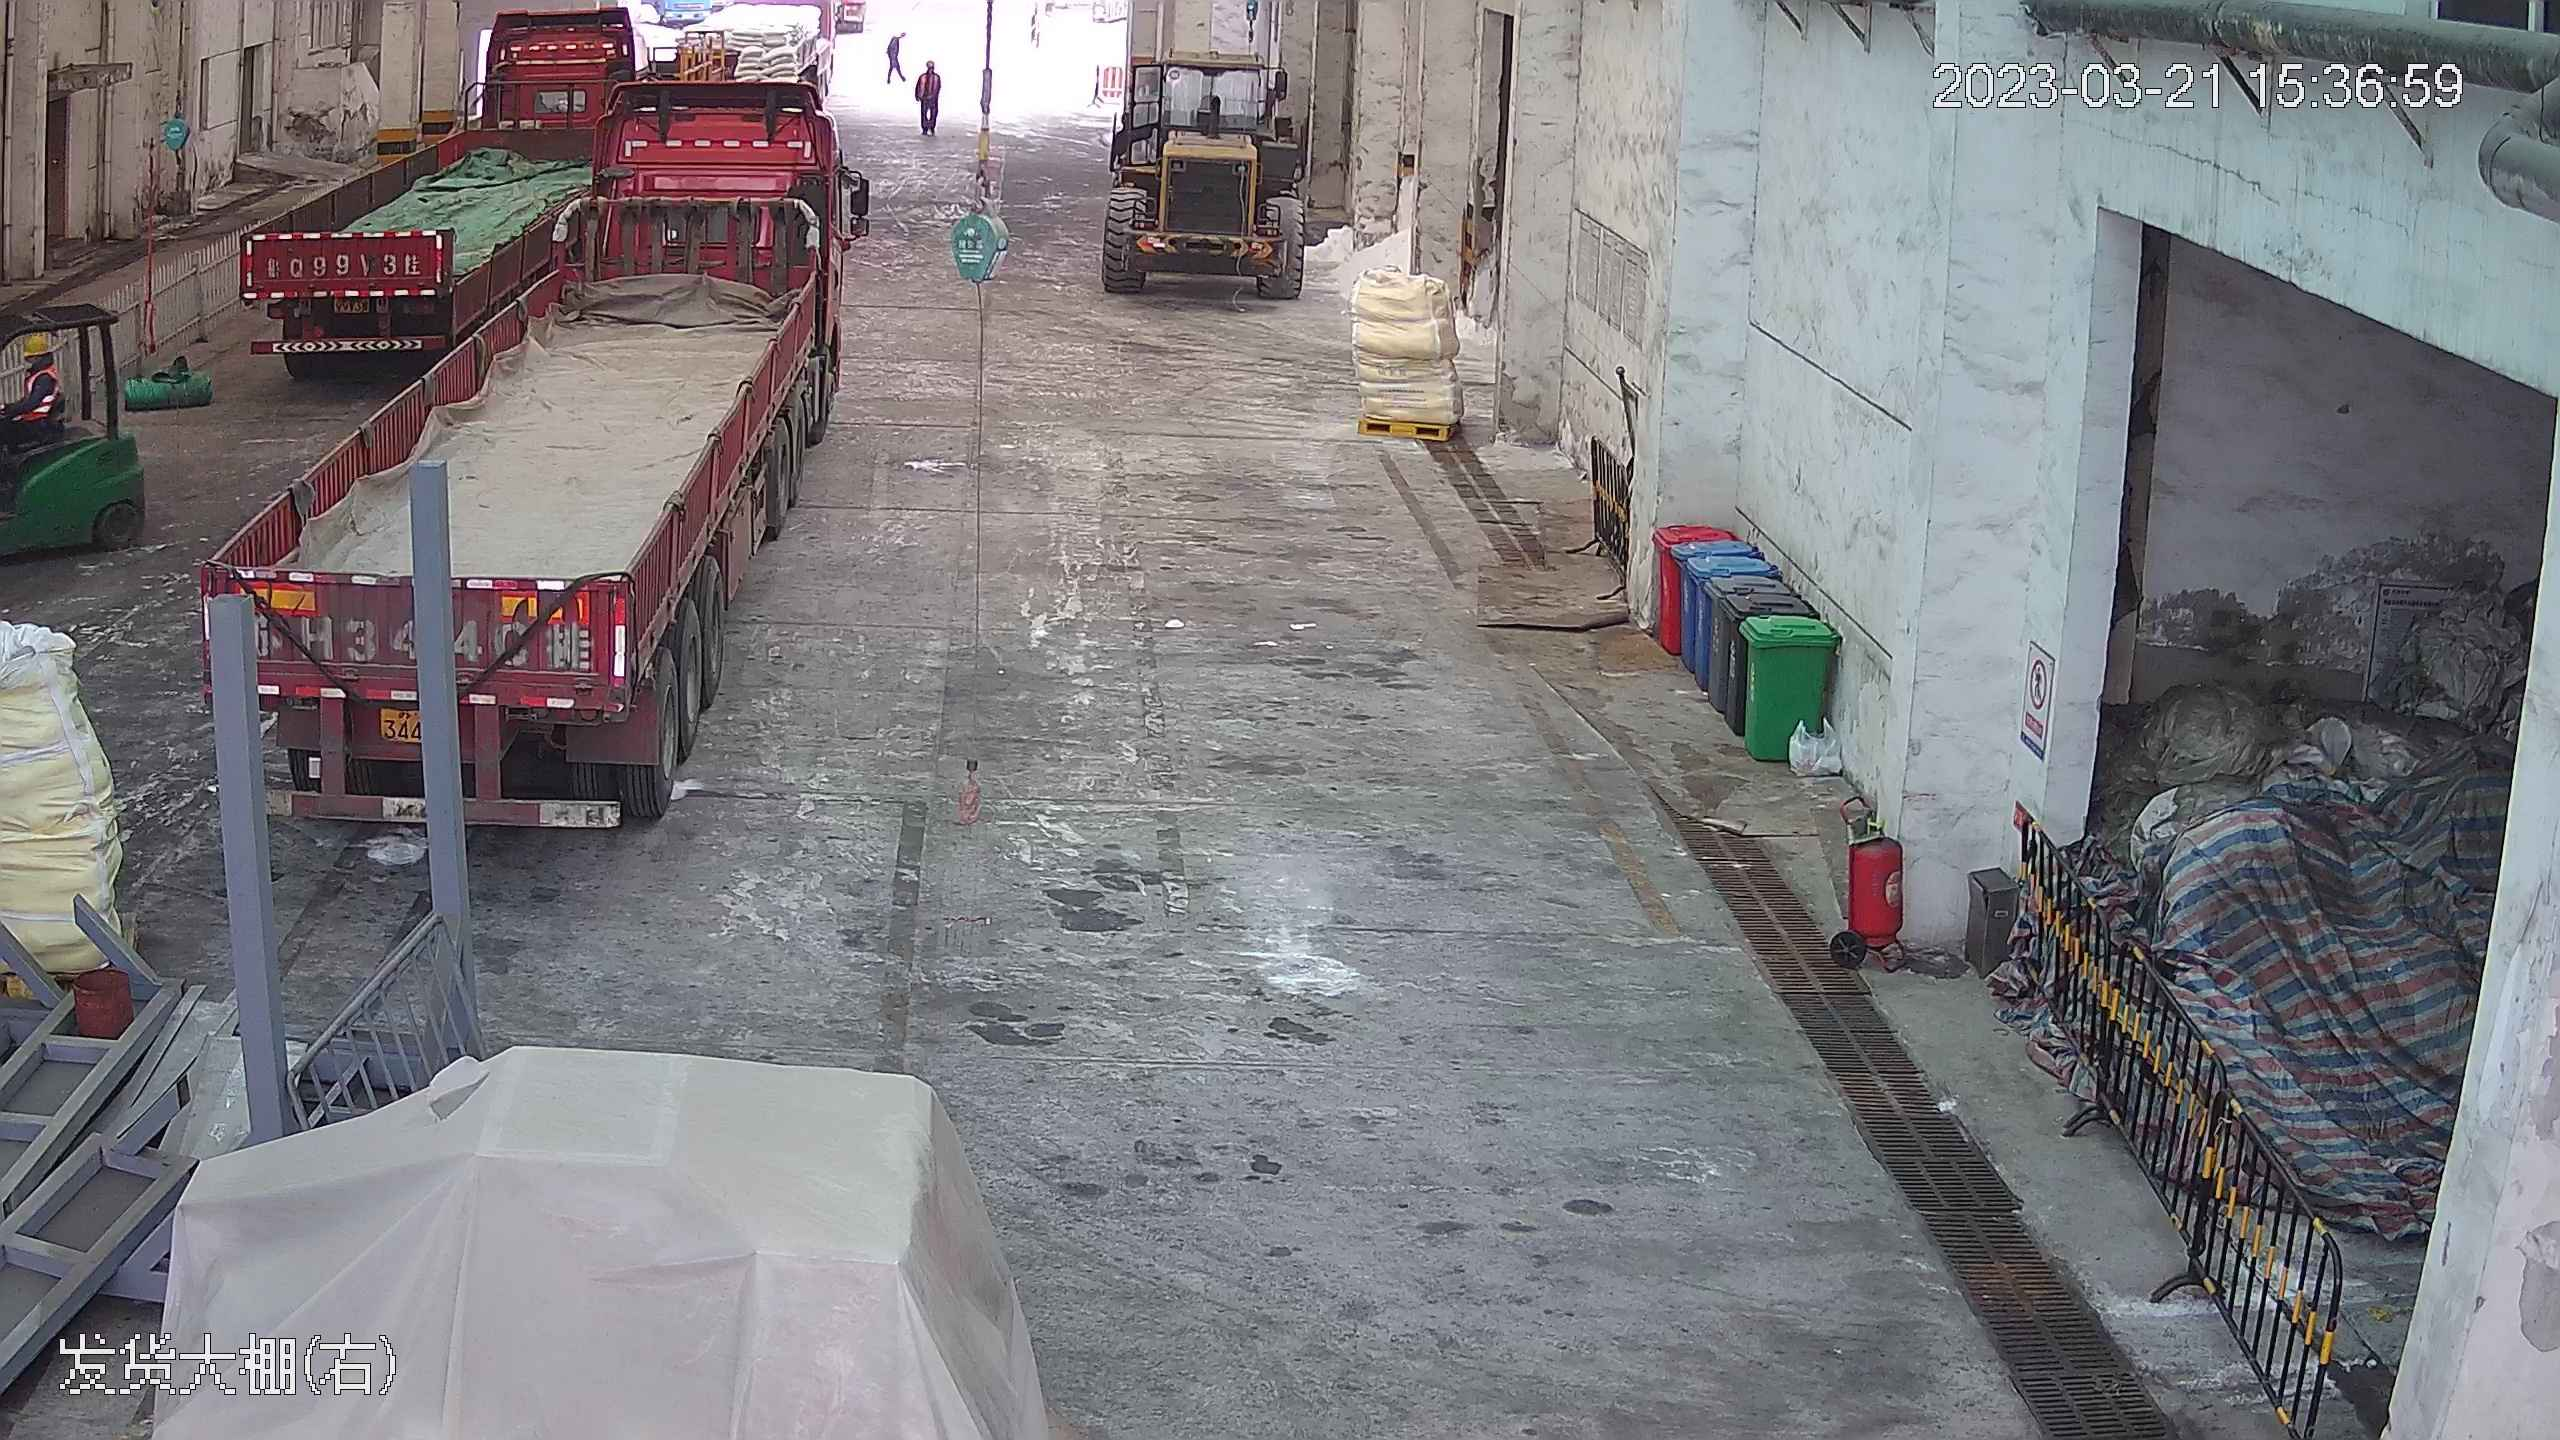head: (13, 334, 59, 394), (914, 48, 941, 79)
helmet: (18, 331, 52, 354), (926, 59, 935, 69)
people: (3, 337, 61, 475), (912, 48, 943, 140), (884, 30, 908, 84)
truck: (208, 16, 855, 845), (233, 55, 626, 375)
